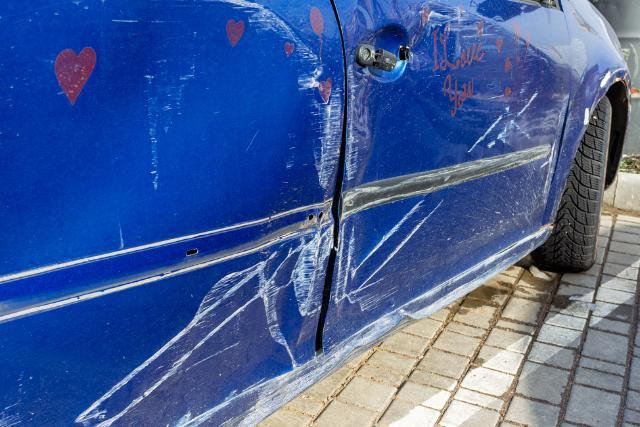Door: (28, 4, 334, 422), (343, 4, 566, 314)
